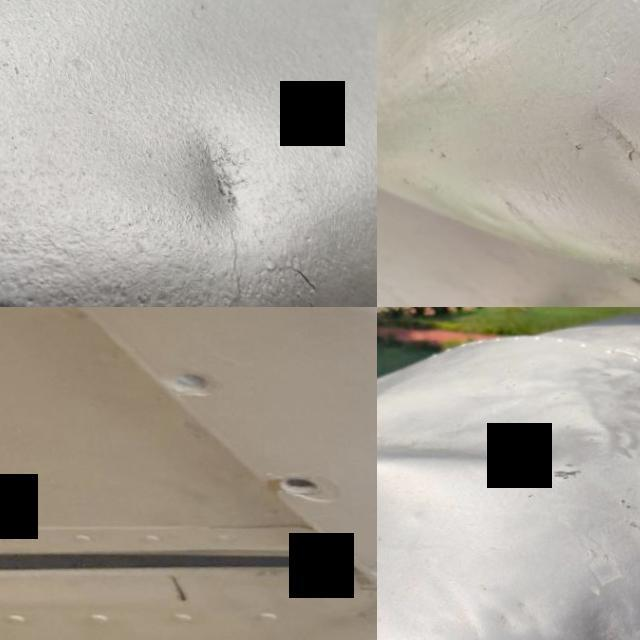Dent: (377, 308, 617, 514), (114, 83, 311, 272), (551, 522, 640, 640), (566, 79, 640, 198)
Missing_Fastener: (167, 360, 229, 404), (277, 467, 337, 500), (361, 549, 377, 579)
